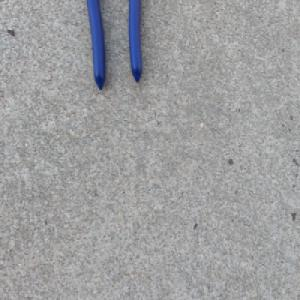Pliers: (86, 0, 144, 91)
